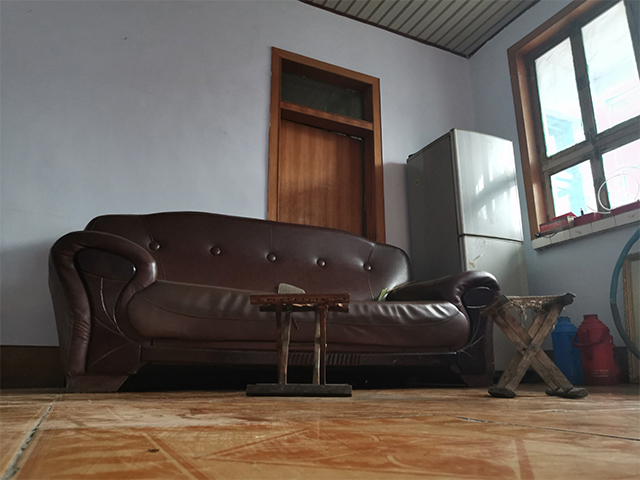sofa: (44, 209, 504, 395)
stool: (477, 290, 592, 401), (244, 290, 356, 399)
